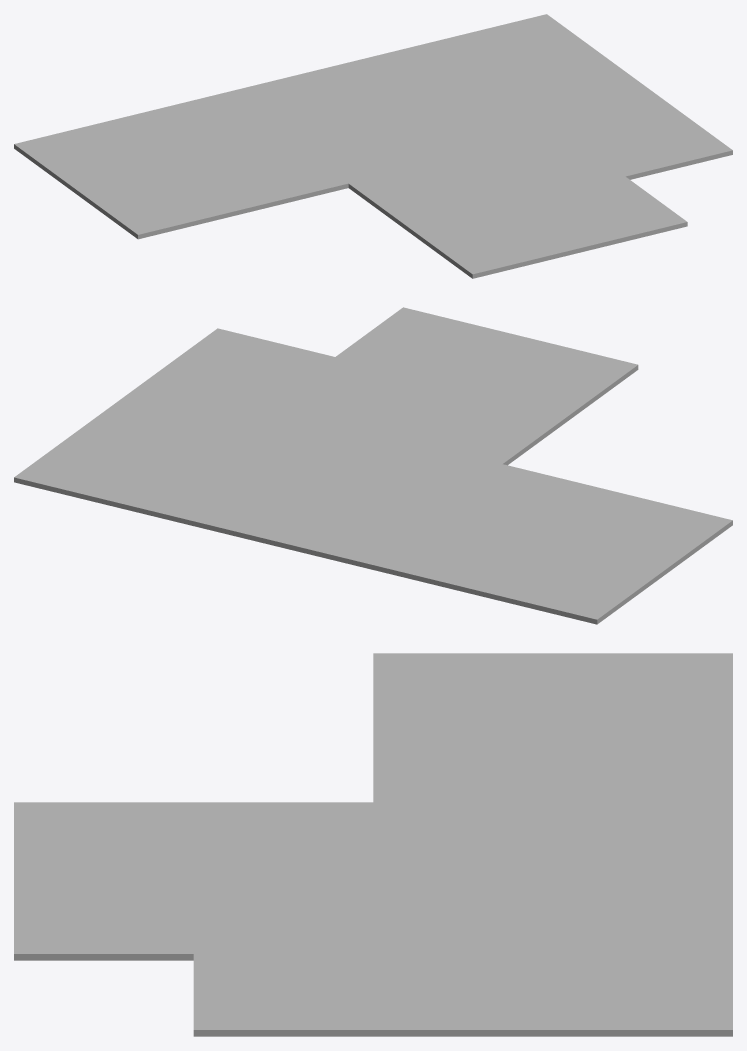
Rendered from floor02.glb.
3 views of the same model, one above another, from view 1: azimuth 30°, elevation 25°; view 2: azimuth 150°, elevation 25°; view 3: azimuth 270°, elevation 25° (orthographic). The views are drawn at different scales.
Parts seen in each view (by area): view 1: floor_top, floor_side; view 2: floor_top, floor_side; view 3: floor_top, floor_side.
Boxes of the visible parts, x1,y1,x2,y2 form: floor_top: [14, 14, 732, 274]; floor_side: [14, 144, 732, 278]; floor_top: [14, 307, 732, 619]; floor_side: [14, 365, 732, 624]; floor_top: [14, 653, 732, 1029]; floor_side: [14, 954, 732, 1036].
Size of the model in its own units: 124 by 1 by 100.
Materials: 1 (1 with a texture image).
